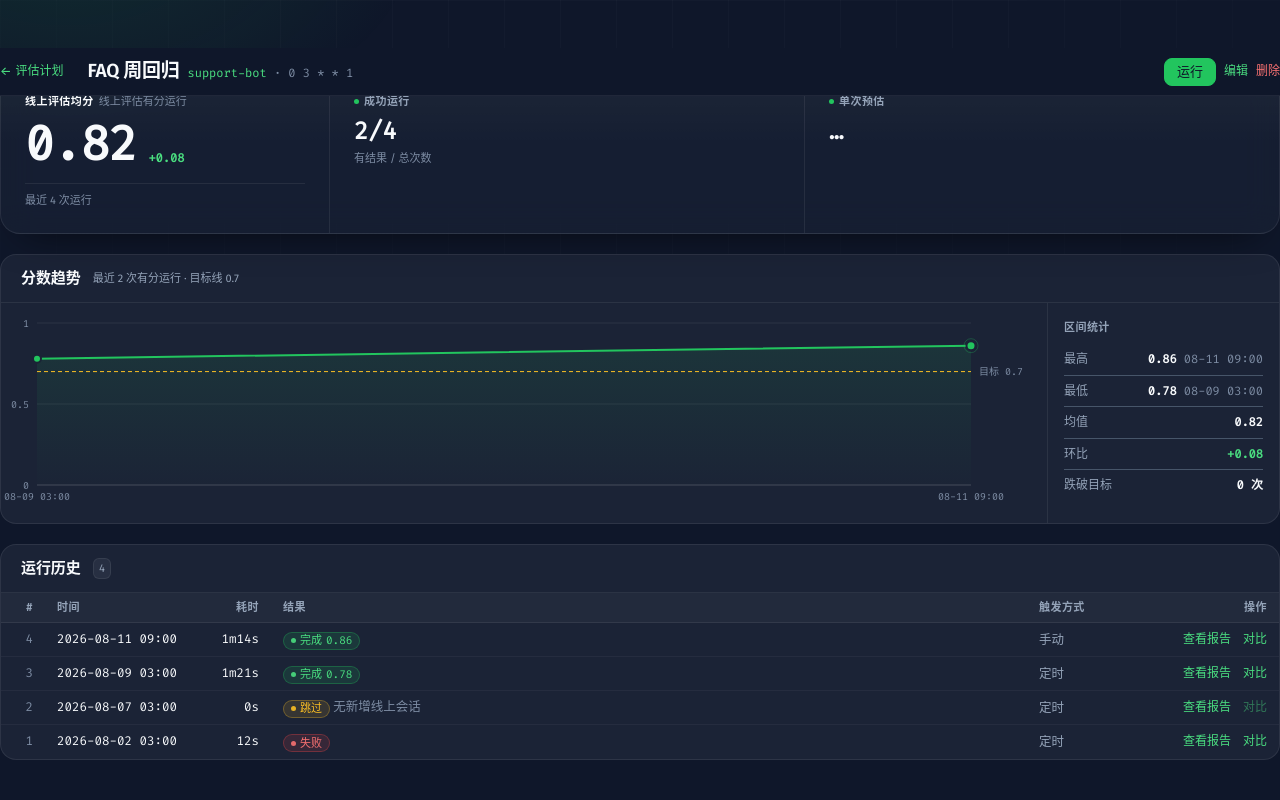
发起运行二次确认 › 点运行只开卡：不发 run_plan；卡上有方案名与预估费用
The image size is (1280, 800).
Expected: the text "FAQ 周回归" is shown, [88, 59, 180, 82]
Click the button with test id "plan-run" at (1190, 72), box [1164, 58, 1216, 86]
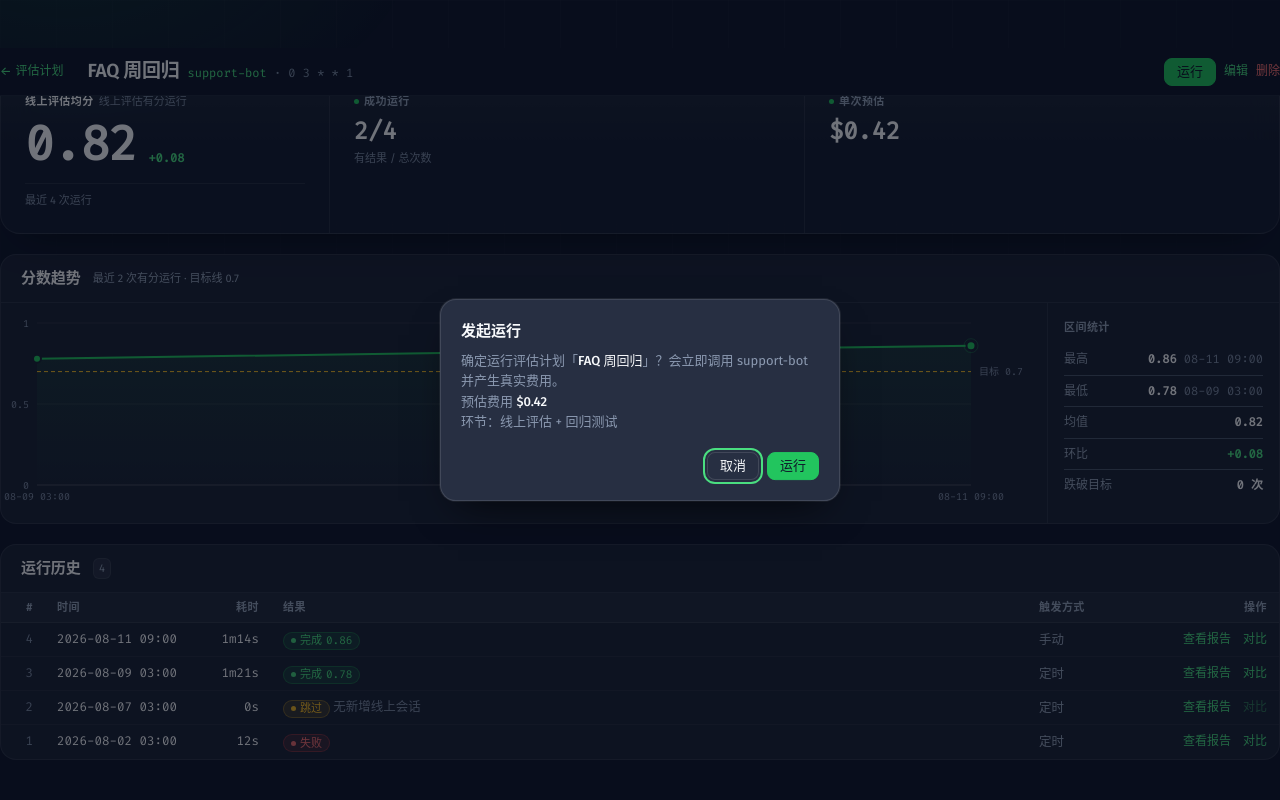
Expected: the dialog with test id "confirm-card" shows "FAQ 周回归", [578, 353, 642, 368]
Expected: the element with test id "run-confirm-cost" shows "$0.42", [461, 394, 547, 409]
Expected: the text with test id "run-confirm-stages" shows "线上评估 + 回归测试", [500, 414, 617, 429]
